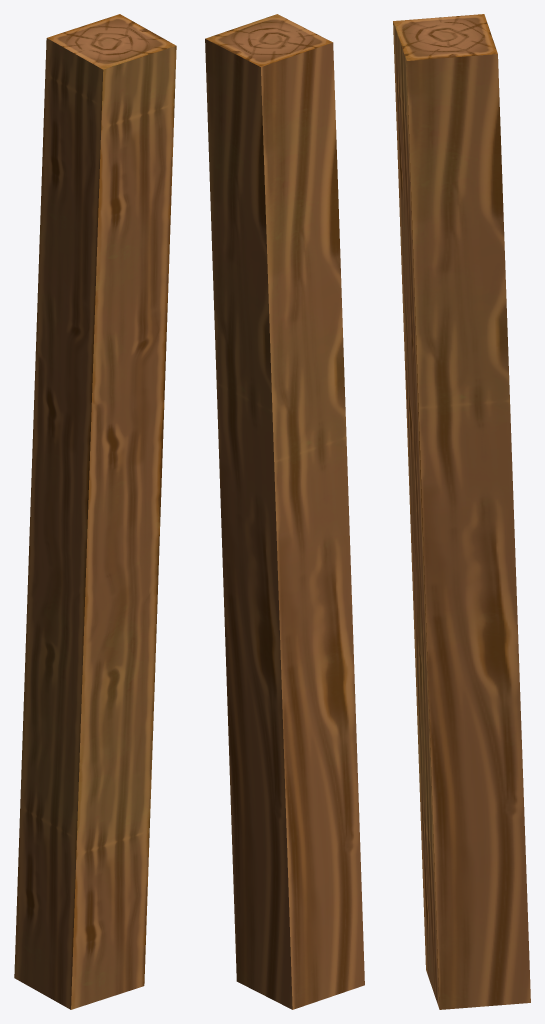
3 renders of one model, left to right at view 1: azimuth 30°, elevation 25°; view 2: azimuth 210°, elevation 25°; view 3: azimuth 270°, elevation 25°, orthographic. The views are drawn at different scales.
Parts seen in each view (by area): view 1: Cube.1641; view 2: Cube.1641; view 3: Cube.1641.
Part boxes in pixels (bbox=[...]): Cube.1641: bbox=[14, 14, 176, 1009]; Cube.1641: bbox=[205, 14, 364, 1009]; Cube.1641: bbox=[393, 14, 530, 1009].
Bounding box in the file's own units: 71.55 × 605 × 78.91.
Materials: 1 (1 with a texture image).
